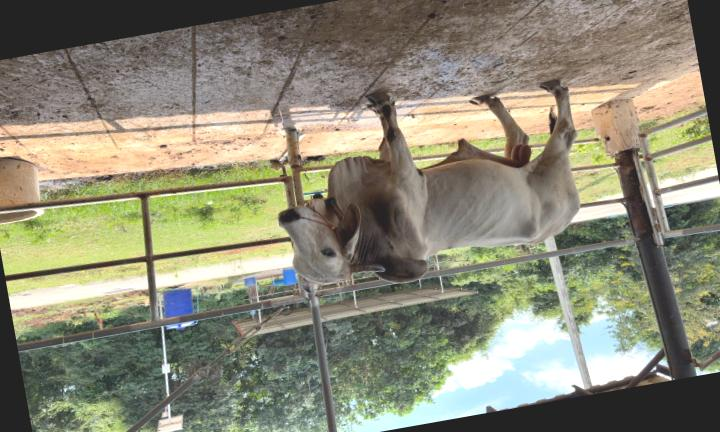Brahman: (279, 81, 580, 286)
